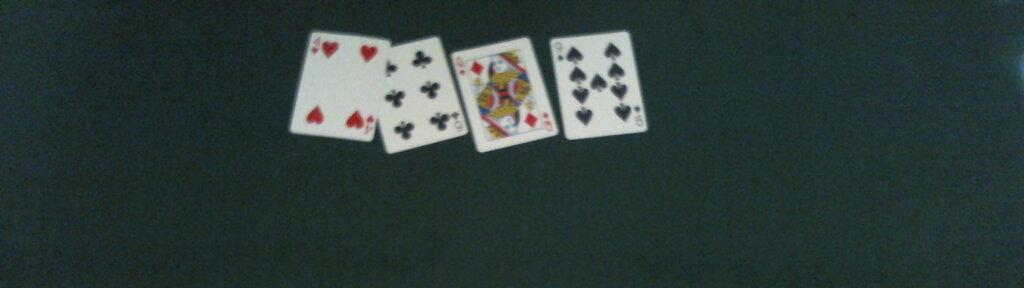four: (290, 31, 392, 142)
nine: (551, 30, 649, 140)
queen: (451, 36, 560, 153)
six: (378, 36, 469, 157)
